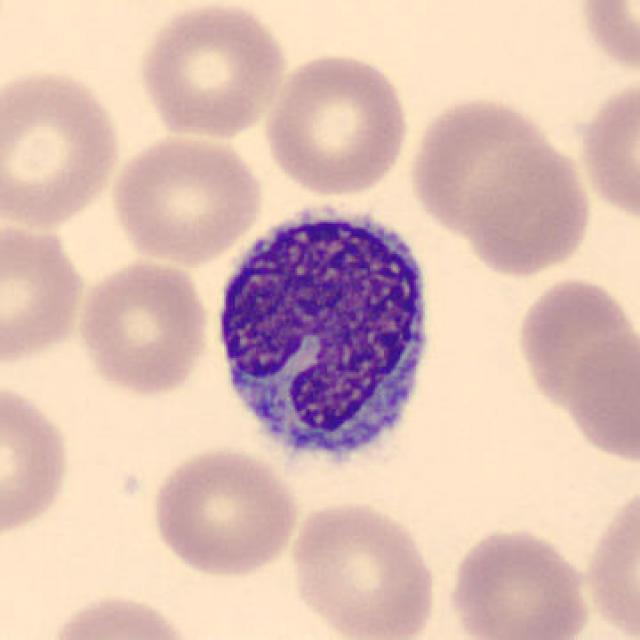Monocyte: (205, 190, 444, 478)
RBC: (405, 94, 578, 244), (260, 48, 412, 198), (133, 0, 290, 141), (284, 497, 441, 638), (106, 130, 266, 266), (0, 63, 126, 231), (147, 442, 300, 578), (75, 256, 213, 400), (458, 139, 596, 279), (510, 273, 638, 416), (442, 522, 594, 640), (0, 215, 89, 369), (0, 377, 75, 543), (562, 326, 640, 467), (574, 72, 638, 228), (582, 476, 638, 640), (44, 589, 201, 640), (572, 0, 640, 81)
